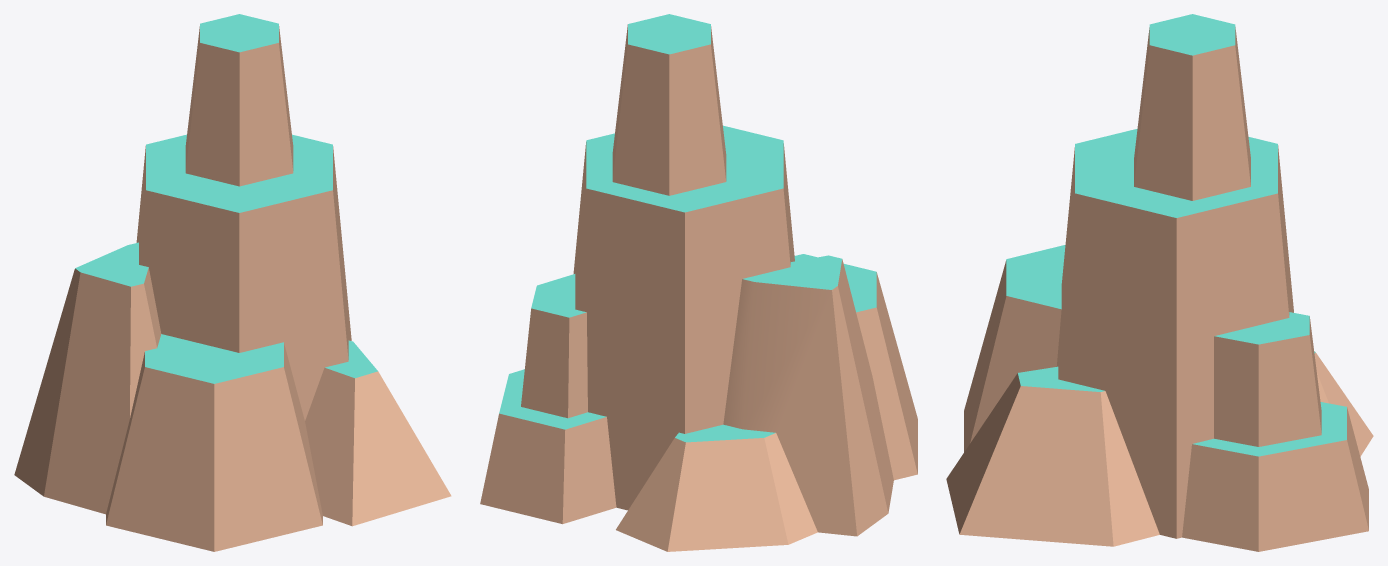
File: rock_tallB.gltf
3 renders of one model, left to right at view 1: azimuth 30°, elevation 25°; view 2: azimuth 150°, elevation 25°; view 3: azimuth 270°, elevation 25°, orthographic. The views are drawn at different scales.
Visible parts, largest first — view 1: rock_tallB; view 2: rock_tallB; view 3: rock_tallB.
Boxes of the visible parts, x1=… form: rock_tallB: x1=14, y1=14, x2=451, y2=551; rock_tallB: x1=480, y1=14, x2=917, y2=551; rock_tallB: x1=946, y1=14, x2=1373, y2=551.
Size of the model in its own units: 0.7648 by 0.8838 by 0.77.
